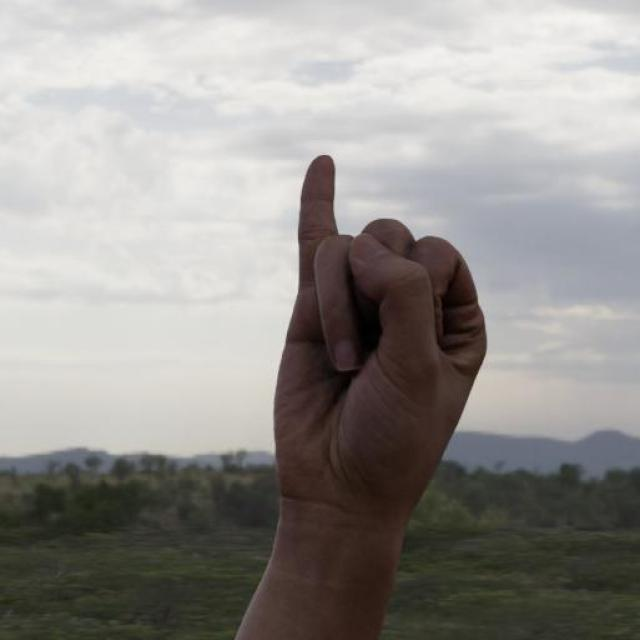I: (260, 136, 516, 590)
